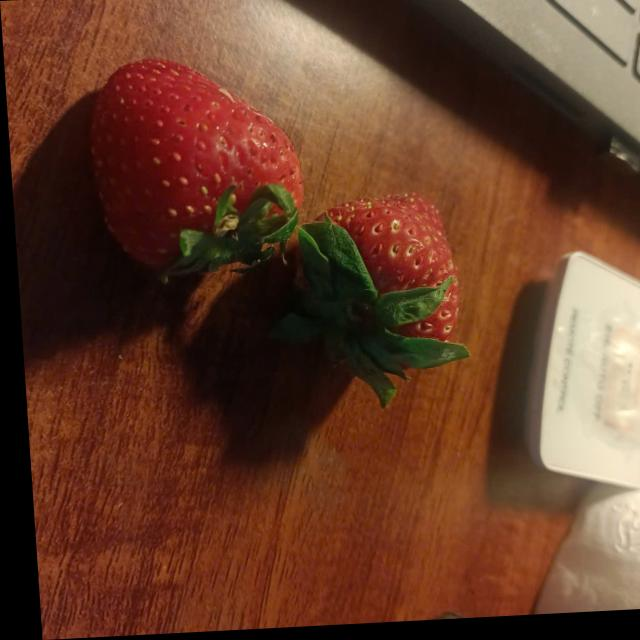DauTay: (66, 39, 315, 302), (247, 176, 473, 434)
